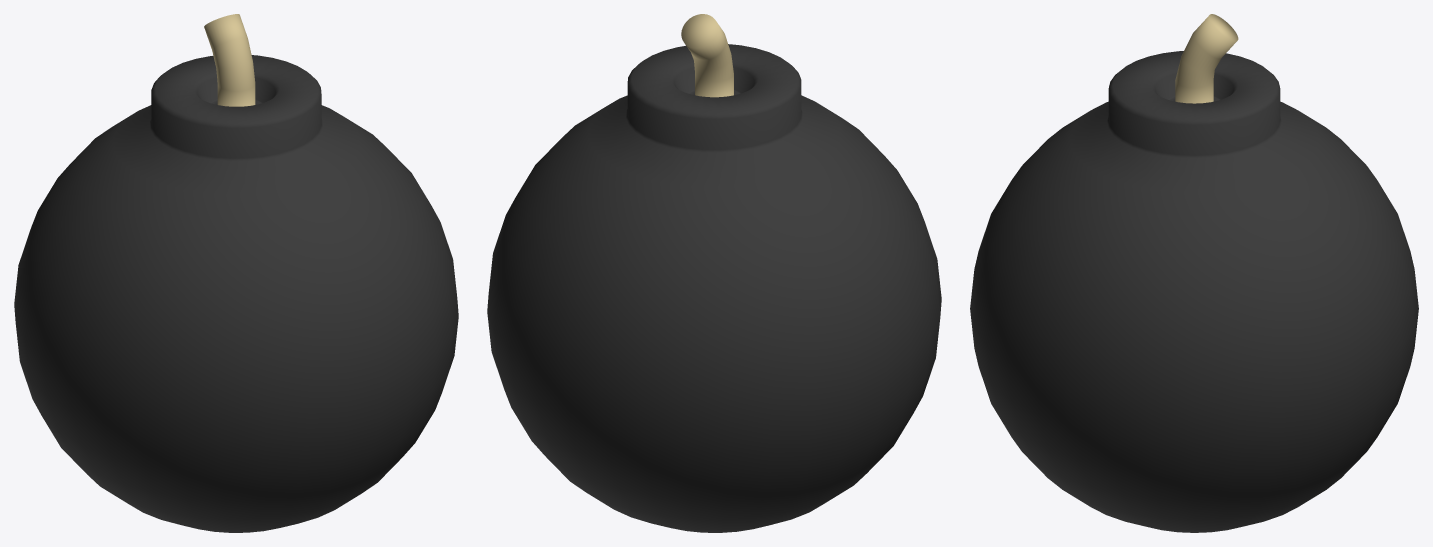
File: Bomb001.fbx
3 renders of one model, left to right at view 1: azimuth 30°, elevation 25°; view 2: azimuth 150°, elevation 25°; view 3: azimuth 270°, elevation 25°, orthographic. The views are drawn at different scales.
Visible parts, largest first — view 1: Sphere; view 2: Sphere; view 3: Sphere.
Part boxes in pixels (left/top/right/bottom): Sphere: left=14, top=14, right=458, bottom=532; Sphere: left=487, top=14, right=941, bottom=532; Sphere: left=970, top=14, right=1418, bottom=532.
Size of the model in its own units: 200 by 244 by 200.
